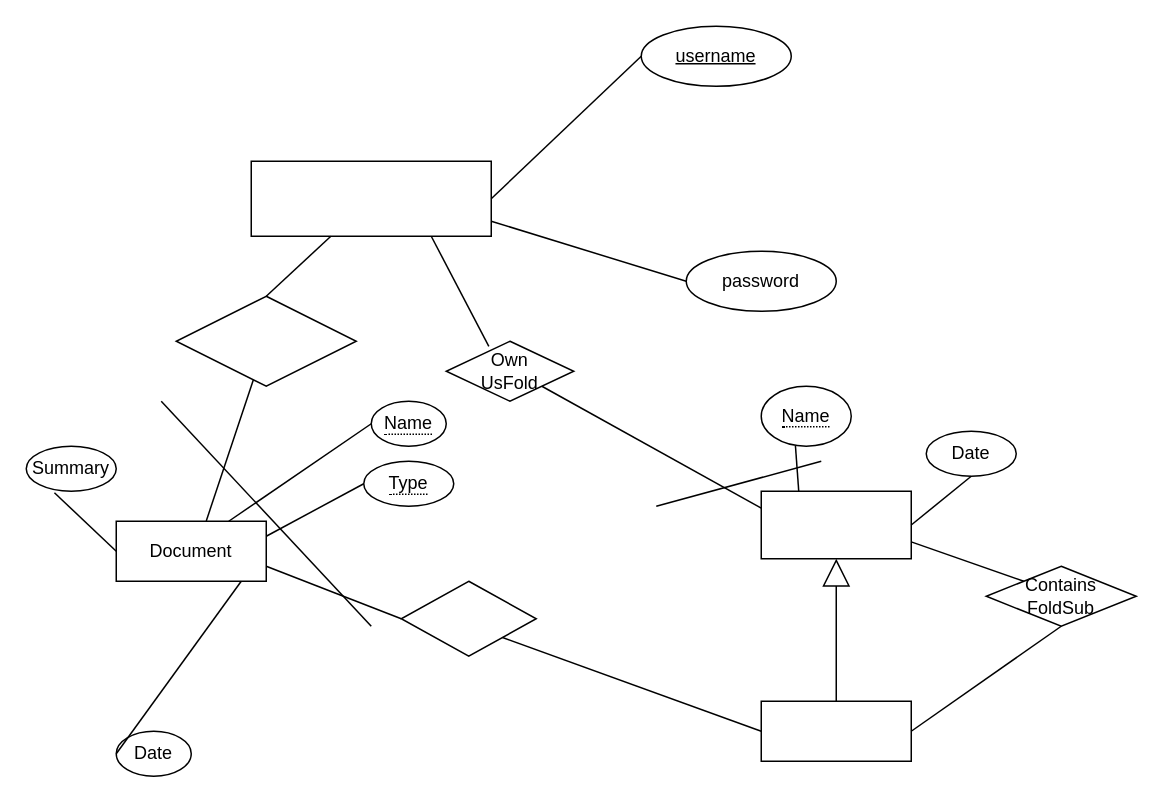
The diagram is 1163 pixels wide and 803 high, and some of its shapes have lost their labels. Each missing label, with the box of its shape:
Contains DocSub: (400, 580, 536, 656)
Folder: (760, 490, 911, 559)
Own UsDoc: (175, 295, 356, 386)
SubFolder: (760, 700, 911, 761)
User: (250, 160, 491, 236)
